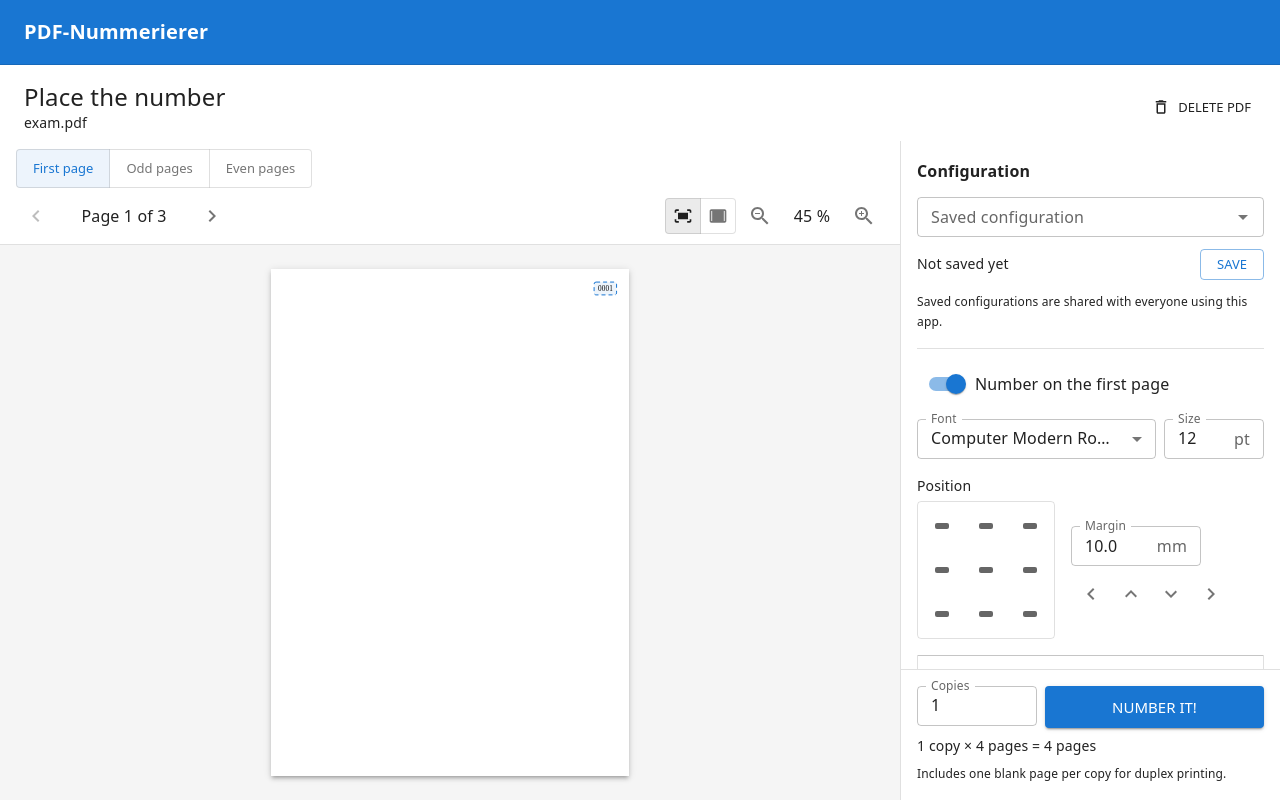
saved configurations › marks the settings as modified after a change
The width and height of the screenshot is (1280, 800).
Check: the text "exam.pdf" is shown, box [24,113,87,132]
Click the dropdown labelled "Saved configuration": point(1074, 217) [923,203,1225,231]
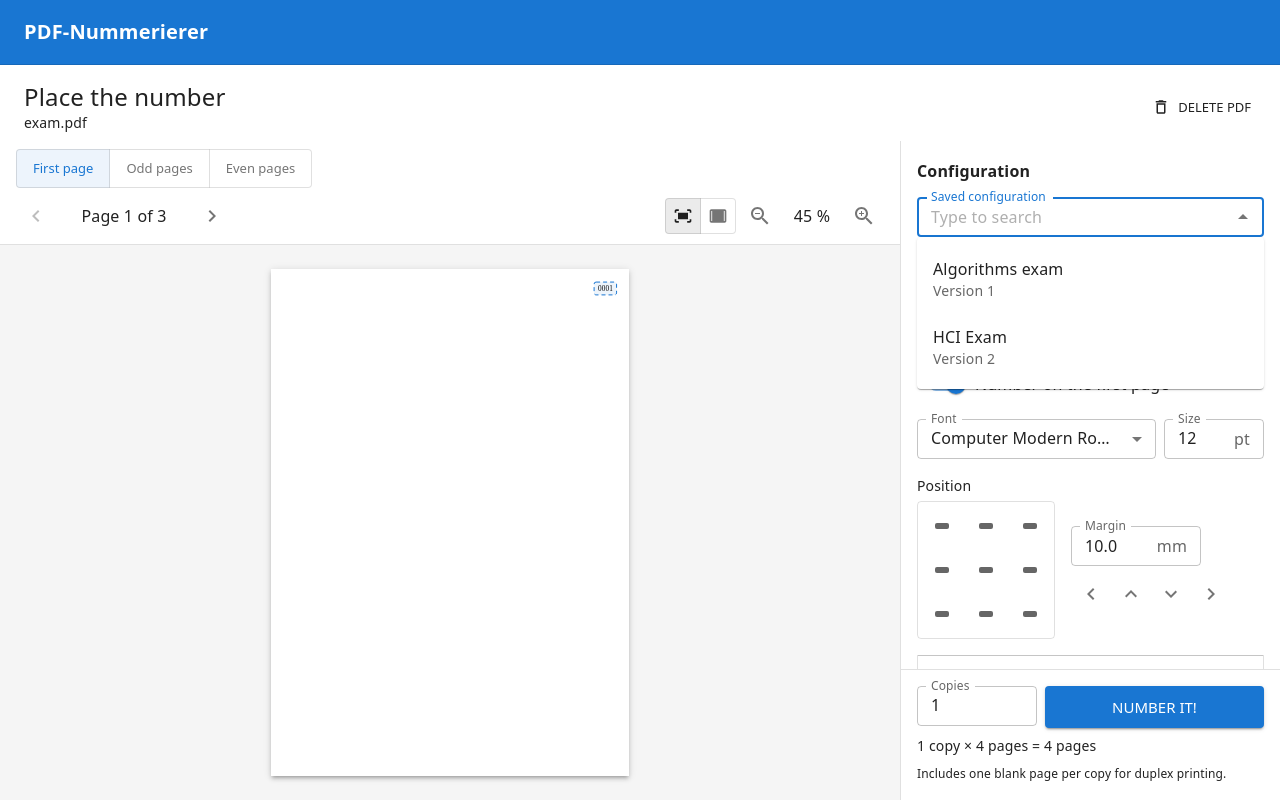
Click the option "Algorithms exam Version 1": point(998, 279) [933,258,1063,300]
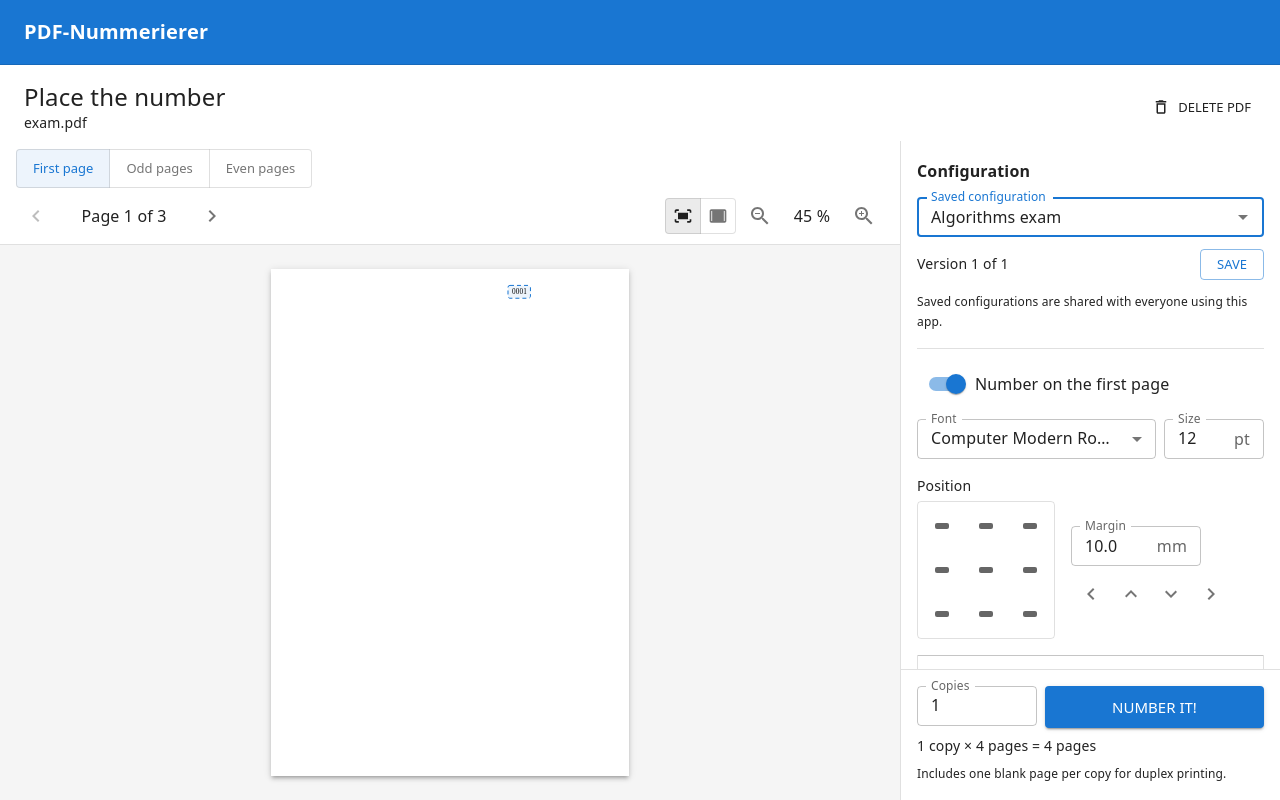
Check: the text "Modified" is not shown
Click the button named "Move left 1 mm": point(1091, 594) [1071,574,1111,614]
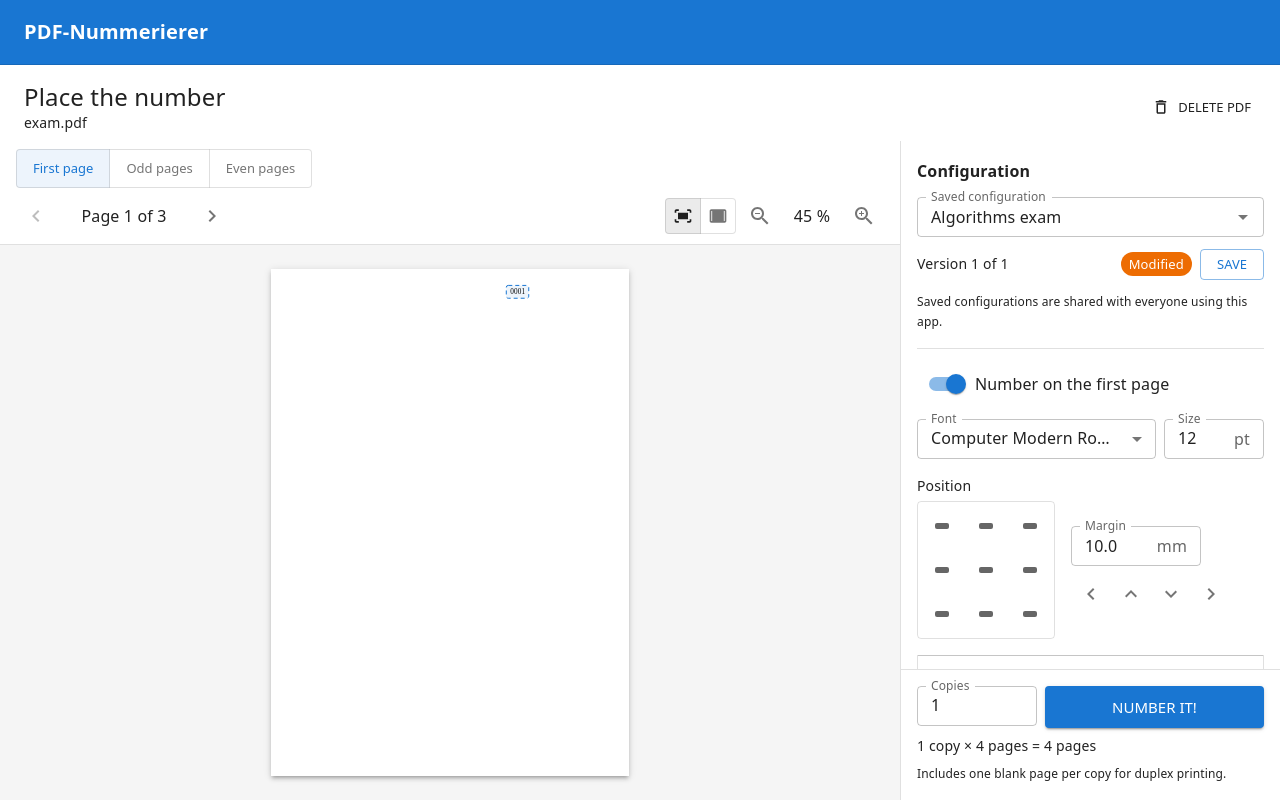
Check: the text "Modified" is shown, box [1129,255,1184,273]
